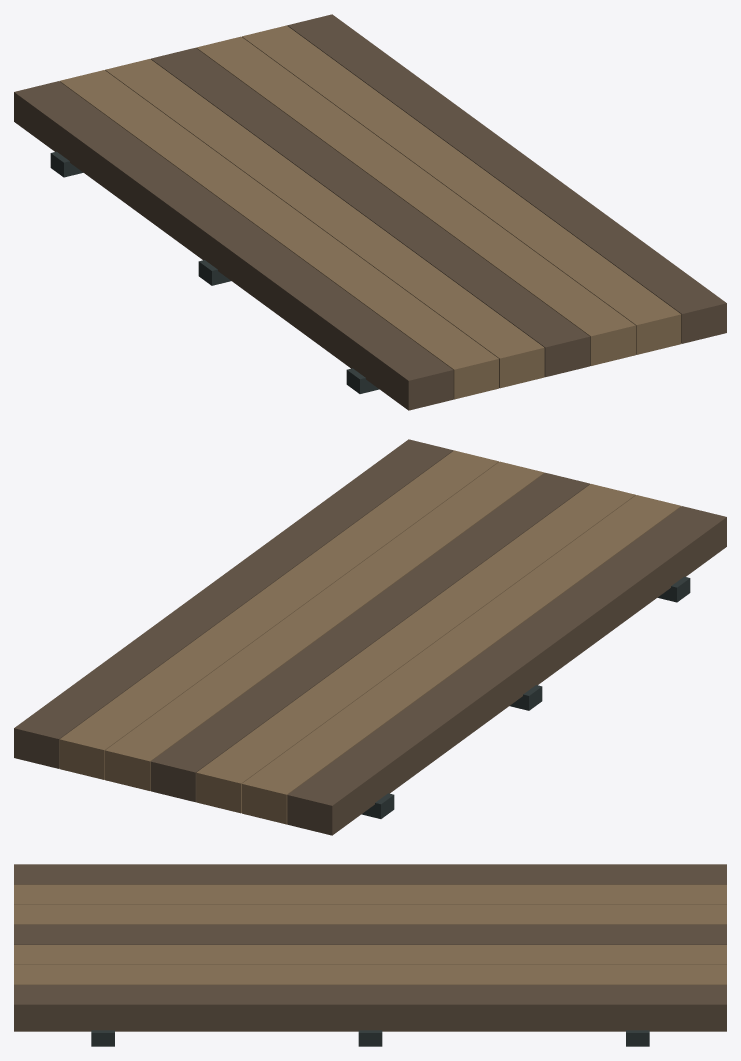
File: SW_Gangplank.fbx
3 renders of one model, top to bottom at view 1: azimuth 30°, elevation 25°; view 2: azimuth 150°, elevation 25°; view 3: azimuth 270°, elevation 25°, orthographic. The views are drawn at different scales.
Parts seen in each view (by area): view 1: SW_Gangplank; view 2: SW_Gangplank; view 3: SW_Gangplank.
Boxes of the visible parts, x1,y1,x2,y2 form: SW_Gangplank: (14, 14, 726, 410); SW_Gangplank: (14, 439, 726, 835); SW_Gangplank: (14, 864, 726, 1046).
Size of the model in its own units: 2.32 by 0.29 by 4.8.
